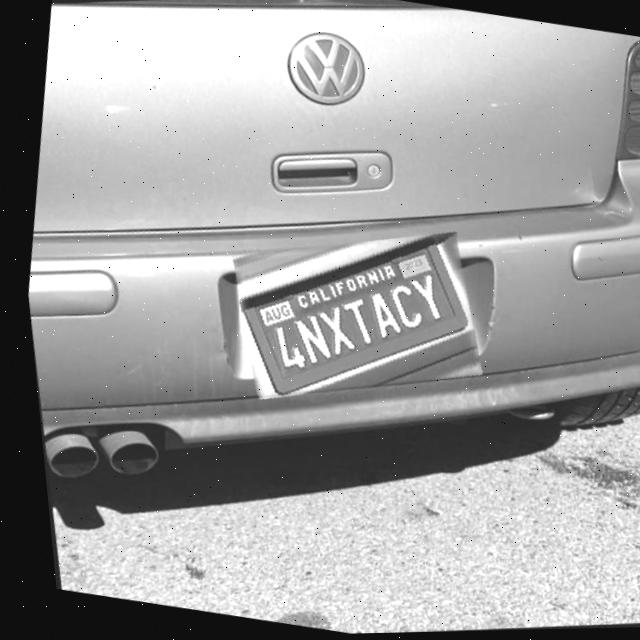LicensePlate: (234, 236, 467, 398)
